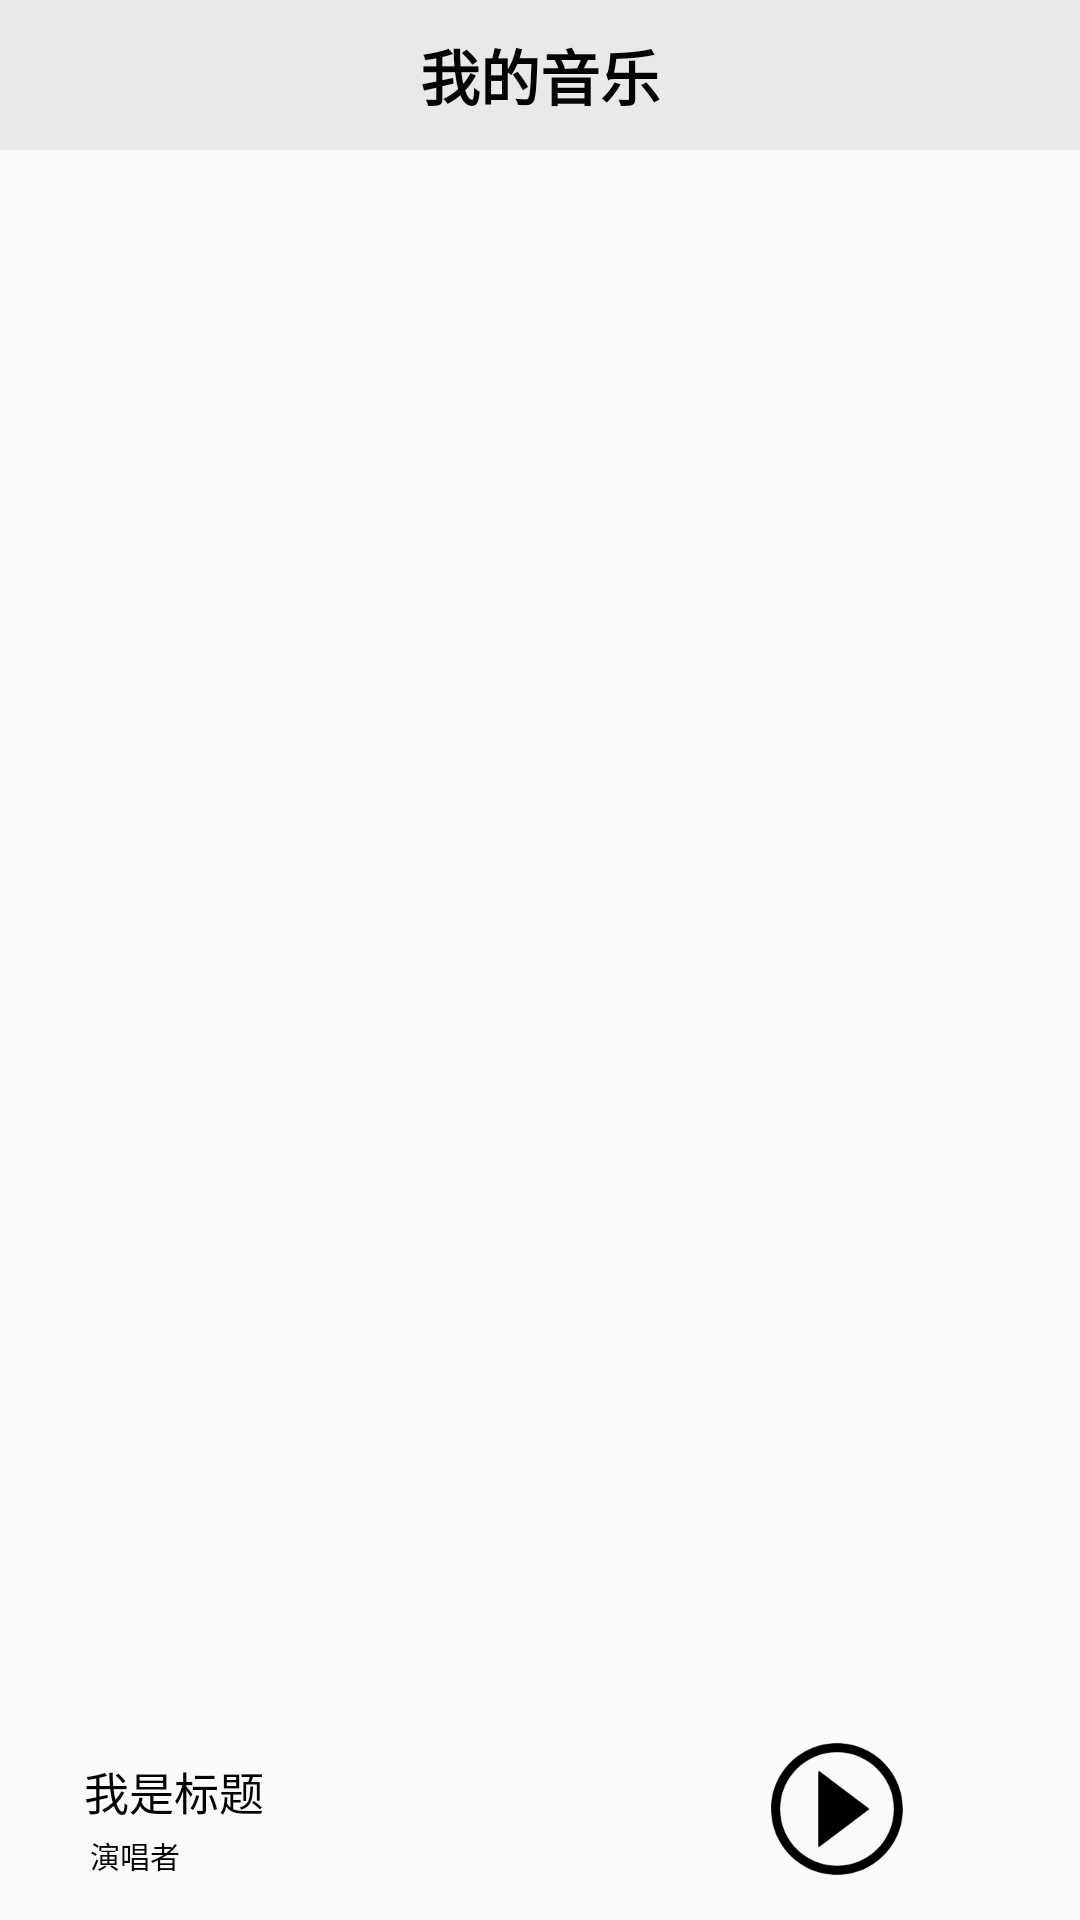

Where icons sit on this 1080 x 1920 app screen, as bbox(x1, y1, x2, y2):
play: bbox(771, 1743, 903, 1875)
